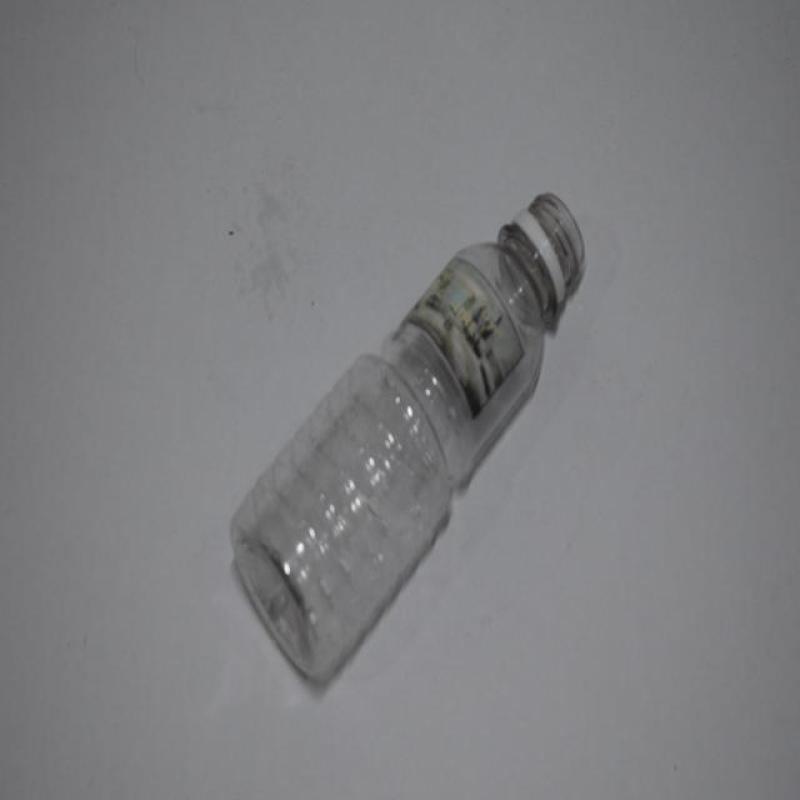botella: (229, 189, 585, 678)
